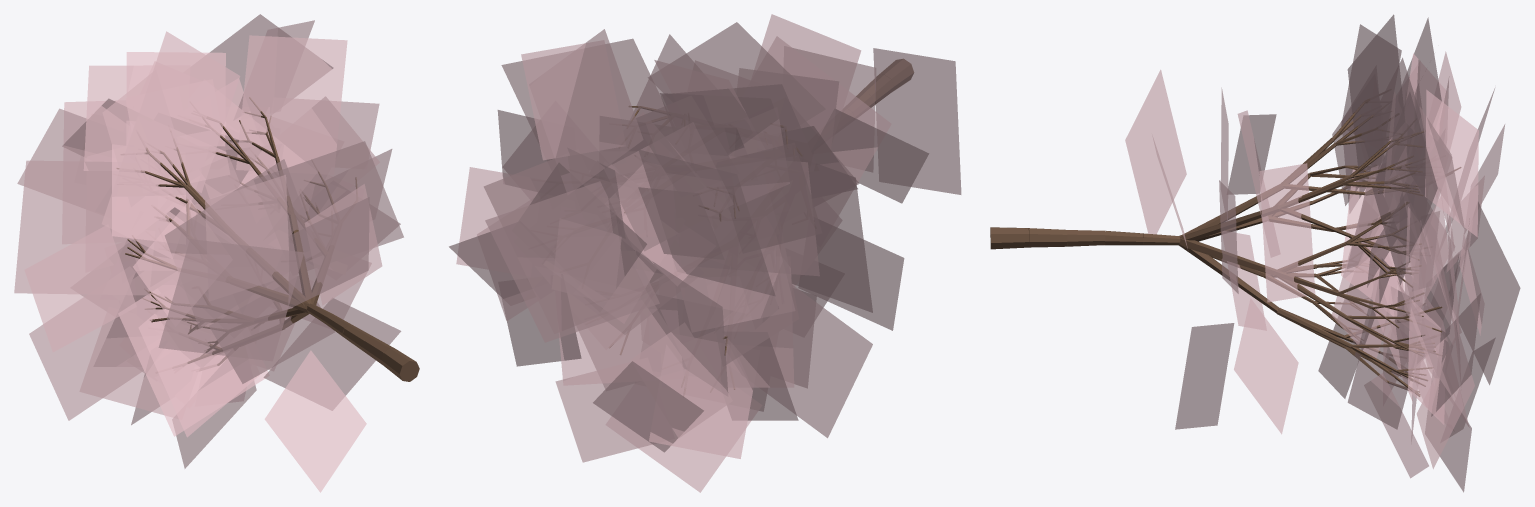
Rendered from peach_tree_2.glb.
3 renders of one model, left to right at view 1: azimuth 30°, elevation 25°; view 2: azimuth 150°, elevation 25°; view 3: azimuth 270°, elevation 25°, orthographic. The views are drawn at different scales.
Parts seen in each view (by area): view 1: PeachBlossoms, PeachBark; view 2: PeachBlossoms, PeachBark; view 3: PeachBlossoms, PeachBark.
Part boxes in pixels (x1,y1,x2,y2): PeachBlossoms: [14, 14, 403, 492]; PeachBark: [116, 97, 419, 381]; PeachBlossoms: [449, 14, 961, 492]; PeachBark: [609, 59, 913, 389]; PeachBlossoms: [1125, 14, 1520, 492]; PeachBark: [990, 99, 1461, 396].
Bounding box in the file's own units: 8.44 × 9.25 × 9.84.
